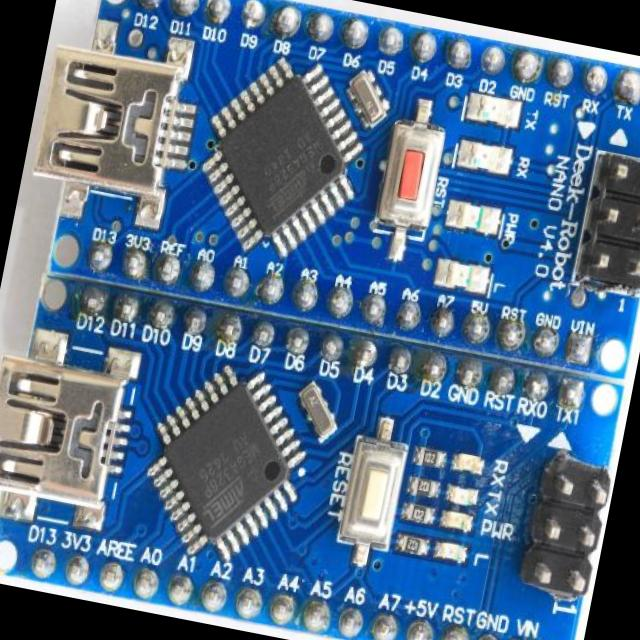IC: (203, 52, 366, 235), (145, 366, 294, 556)
LED: (440, 195, 504, 242), (464, 90, 525, 138), (456, 136, 518, 182), (436, 255, 494, 295), (434, 537, 471, 563), (444, 480, 478, 508), (449, 452, 484, 476), (438, 510, 472, 532)
connector: (20, 29, 203, 220), (0, 347, 141, 532), (517, 451, 618, 600), (575, 152, 640, 296)
resistor: (396, 531, 431, 558), (403, 500, 438, 525), (409, 475, 440, 500), (414, 446, 444, 469)
